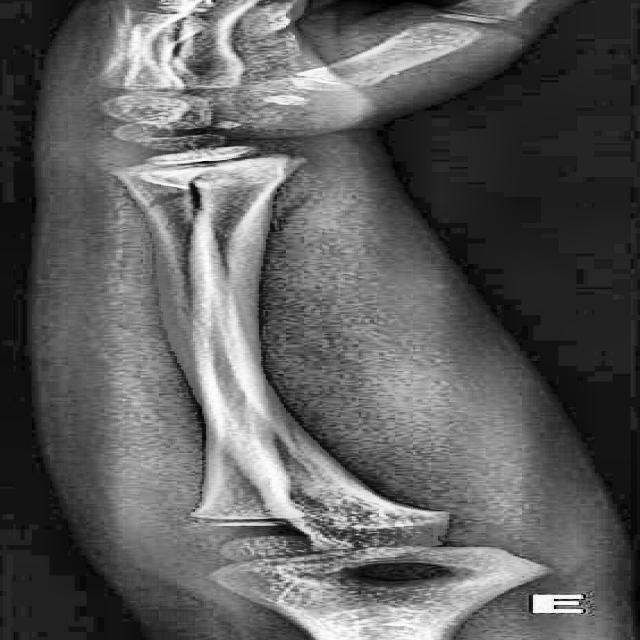fracture: (132, 189, 188, 212)
